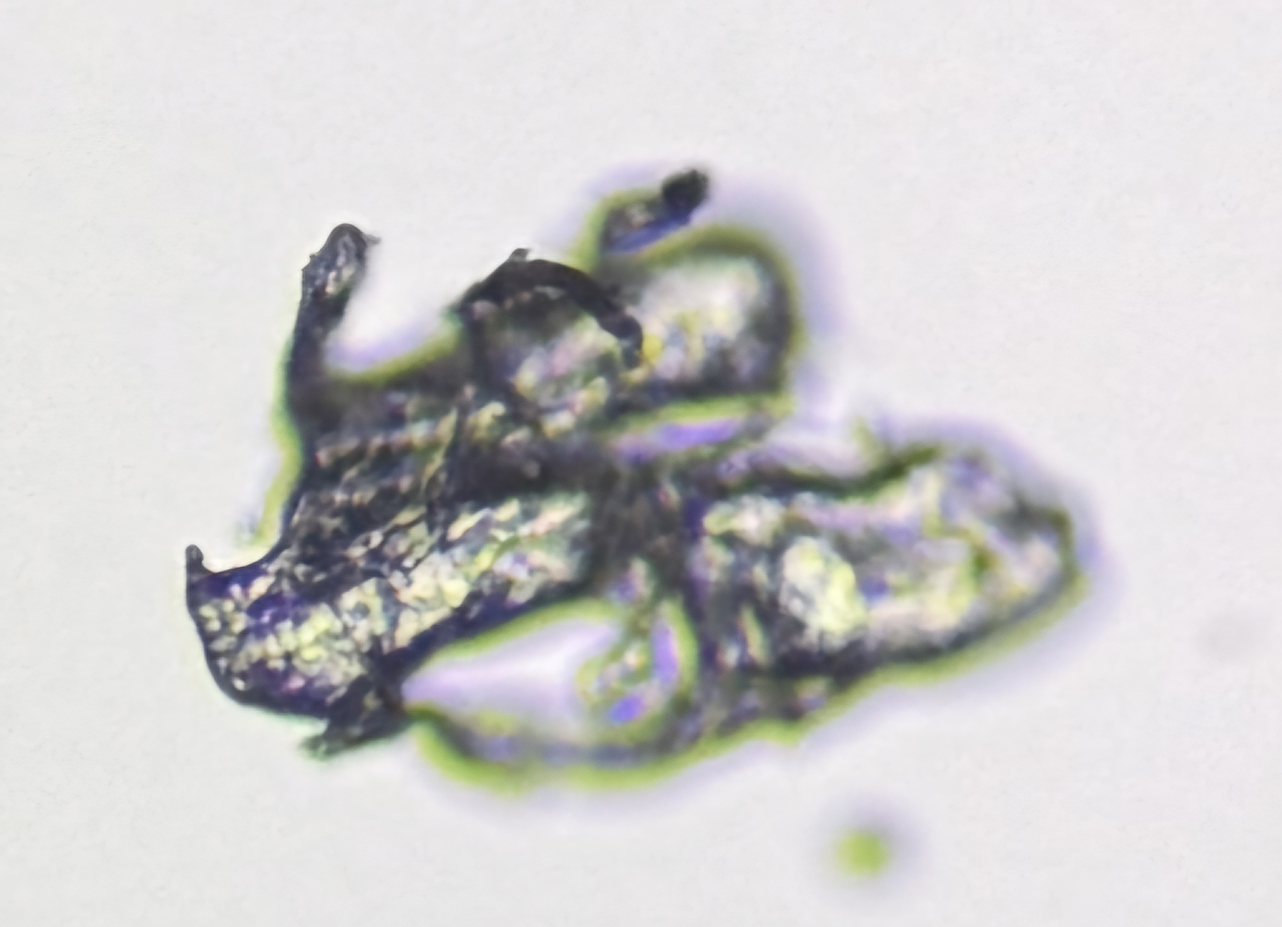microplastic: (182, 169, 1082, 791)
